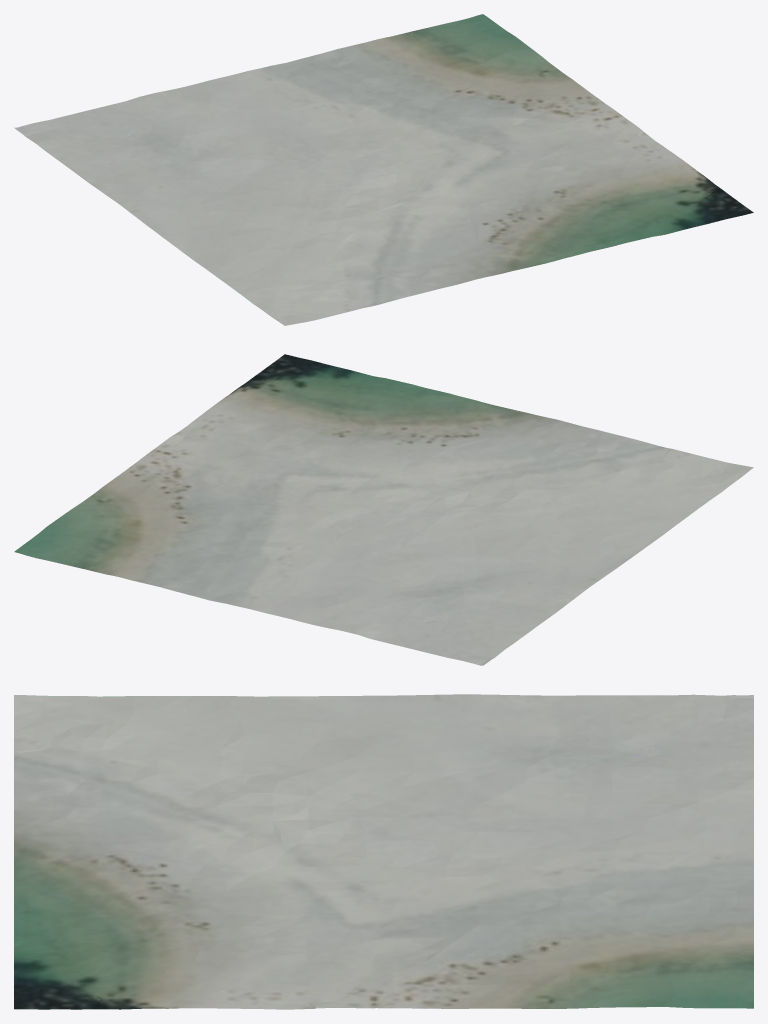
3 views of the same model, one above another, from view 1: azimuth 30°, elevation 25°; view 2: azimuth 150°, elevation 25°; view 3: azimuth 270°, elevation 25° (orthographic). The views are drawn at different scales.
Size of the model in its own units: 104 by 0.5827 by 104.
2 materials, 2 textured.
